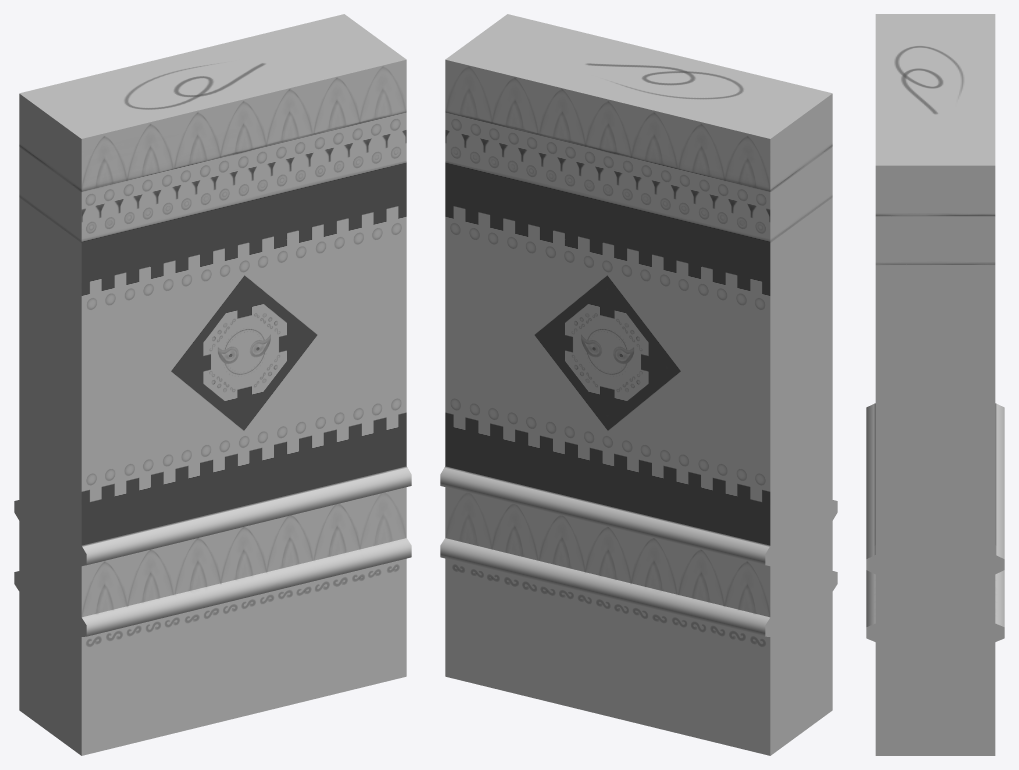
Rendered from wall.fbx.
The picture shows the model from 3 angles, left to right: view 1: azimuth 30°, elevation 25°; view 2: azimuth 150°, elevation 25°; view 3: azimuth 270°, elevation 25°; orthographic projection. The views are drawn at different scales.
Visible parts, largest first — view 1: wall; view 2: wall; view 3: wall.
Boxes of the visible parts, box(x1,y1,x2,y2) form: wall: box(14, 14, 411, 755); wall: box(440, 14, 837, 755); wall: box(866, 14, 1004, 755).
Size of the model in its own units: 300 by 544 by 116.
Materials: 1 (1 with a texture image).
